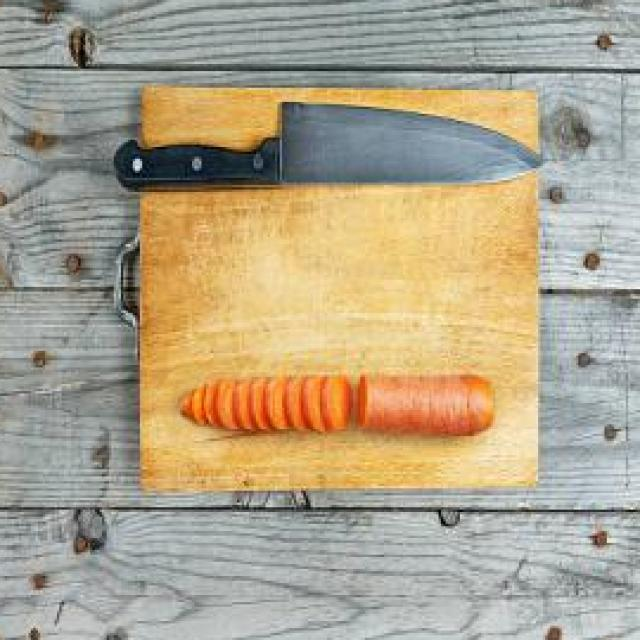knife: (112, 98, 548, 192)
